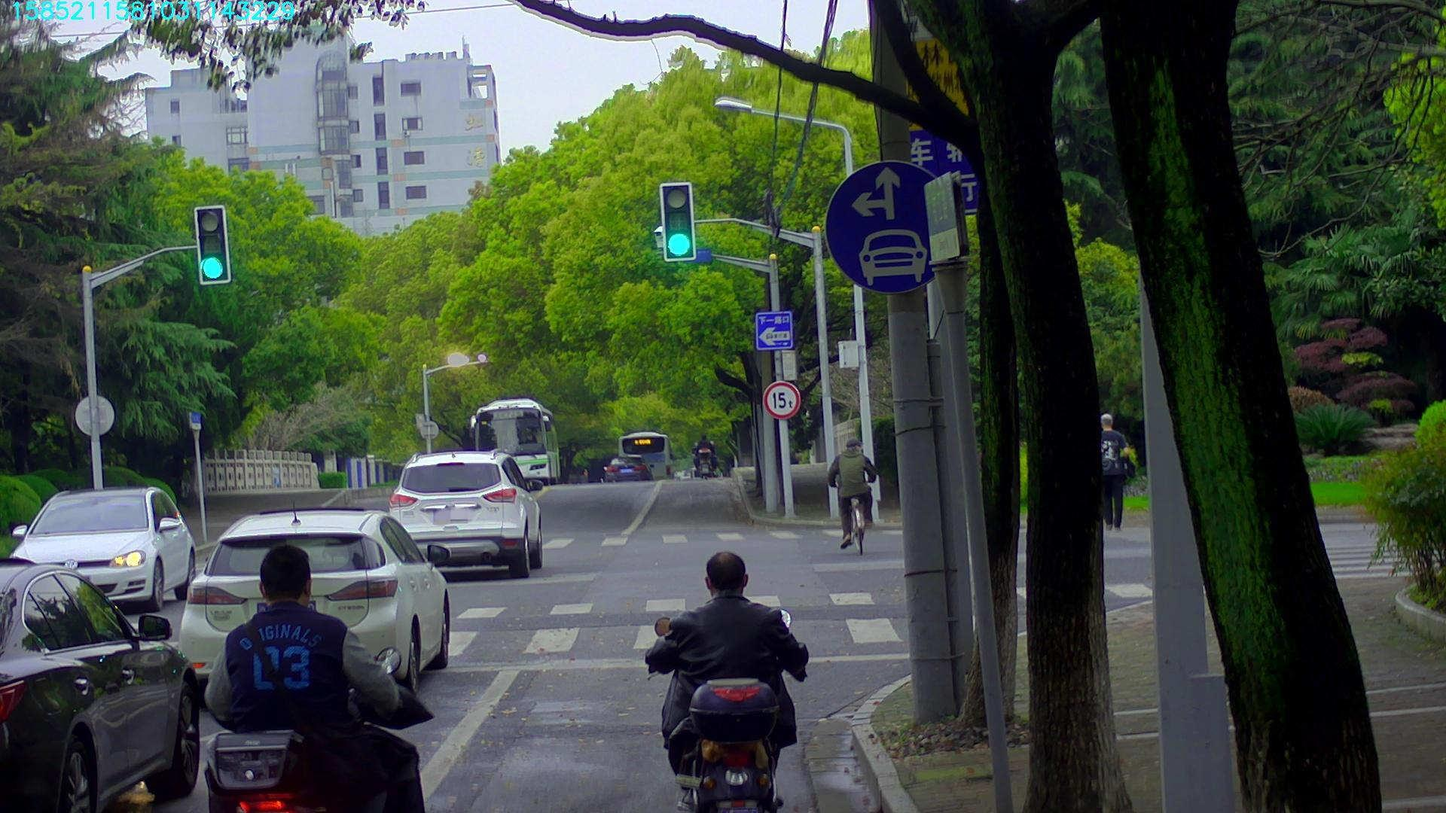green: (194, 208, 230, 282), (660, 184, 694, 259)
